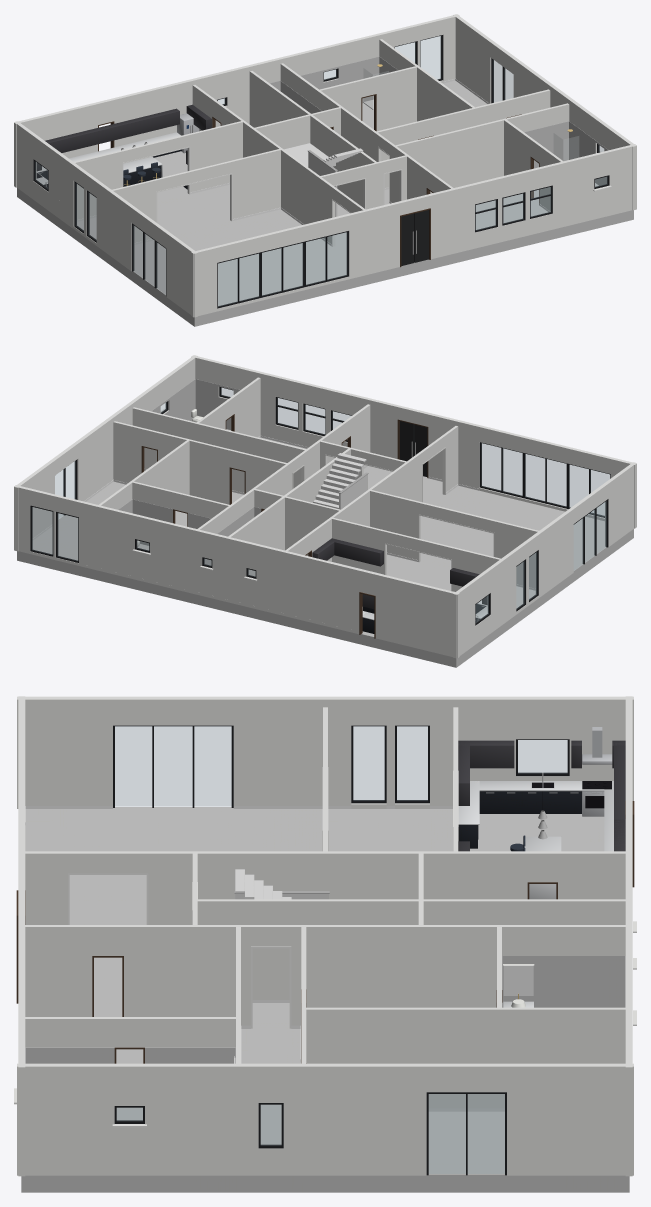
Rendered from int_est_S1_0.glb.
The picture shows the model from 3 angles, top to bottom: view 1: azimuth 30°, elevation 25°; view 2: azimuth 150°, elevation 25°; view 3: azimuth 270°, elevation 25°; orthographic projection. The views are drawn at different scales.
Visible parts, largest first — view 1: ROOM, WALL_0, WALL_6, WALL_4, WALL_3, WALL_12, WALL_10, WALL_8, WALL_1, WALL_5, WALL_2, WALL_14 (+4 smaller); view 2: WALL_6, ROOM, WALL_0, WALL_4, WALL_3, WALL_12, WALL_13, WALL_2, WALL_8, WALL_1, WALL_10, WALL_5 (+4 smaller); view 3: ROOM, WALL_12, WALL_4, WALL_2, WALL_1, WALL_15, WALL_3, WALL_8, WALL_11, WALL_6, WALL_0, WALL_5 (+1 smaller).
Boxes of the visible parts, bbox=[...] form: ROOM: bbox=[17, 56, 633, 326]; WALL_0: bbox=[191, 144, 636, 317]; WALL_6: bbox=[14, 14, 459, 187]; WALL_4: bbox=[16, 139, 197, 317]; WALL_3: bbox=[14, 121, 280, 268]; WALL_12: bbox=[453, 14, 636, 210]; WALL_10: bbox=[395, 103, 569, 193]; WALL_8: bbox=[249, 71, 377, 207]; WALL_1: bbox=[192, 85, 365, 246]; WALL_5: bbox=[74, 121, 242, 219]; WALL_2: bbox=[280, 63, 455, 202]; WALL_14: bbox=[319, 66, 417, 131]; WALL_6: bbox=[14, 485, 459, 658]; ROOM: bbox=[17, 379, 633, 667]; WALL_0: bbox=[191, 355, 636, 528]; WALL_4: bbox=[453, 480, 634, 658]; WALL_3: bbox=[370, 462, 636, 609]; WALL_12: bbox=[14, 355, 197, 551]; WALL_13: bbox=[113, 421, 286, 504]; WALL_2: bbox=[14, 404, 370, 634]; WALL_8: bbox=[228, 448, 350, 576]; WALL_1: bbox=[285, 426, 458, 561]; WALL_10: bbox=[132, 407, 305, 492]; WALL_5: bbox=[332, 518, 500, 591]; ROOM: bbox=[21, 727, 629, 1192]; WALL_12: bbox=[17, 1063, 633, 1175]; WALL_4: bbox=[17, 725, 633, 808]; WALL_2: bbox=[25, 925, 632, 1176]; WALL_1: bbox=[25, 851, 625, 924]; WALL_15: bbox=[303, 1007, 625, 1108]; WALL_3: bbox=[17, 696, 633, 851]; WALL_8: bbox=[195, 853, 625, 999]; WALL_11: bbox=[25, 1017, 238, 1063]; WALL_6: bbox=[625, 696, 636, 1171]; WALL_0: bbox=[14, 696, 25, 1176]; WALL_5: bbox=[453, 707, 458, 851].
Bounding box in the file's own units: 26.41 × 4.2 × 18.63.
Materials: 16 (1 with a texture image).
